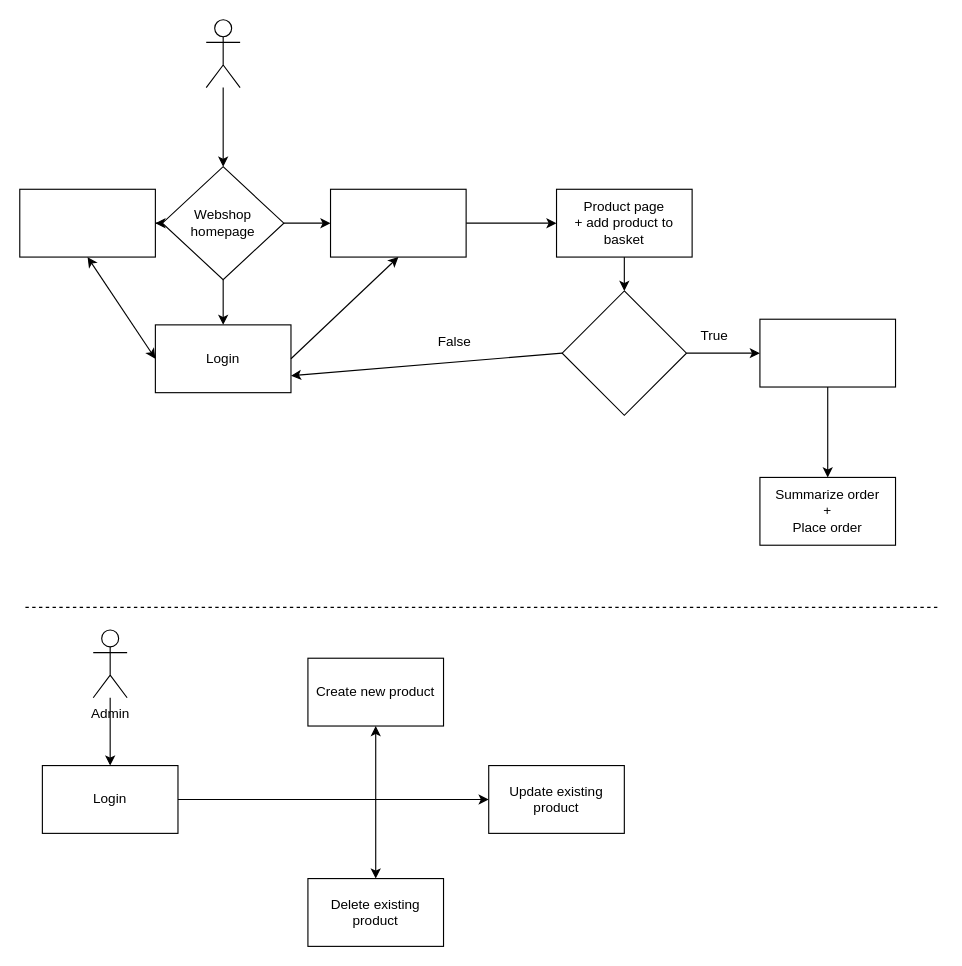
Image size: 962x966. Some labels were removed from this diagram. Each missing label, with the centre of its shape:
"Cart" belongs at point (827, 352).
"Customer" belongs at point (222, 53).
"Products page" belongs at point (397, 222).
"Registration" belongs at point (87, 222).
"User is logged in?" belongs at point (623, 352).
